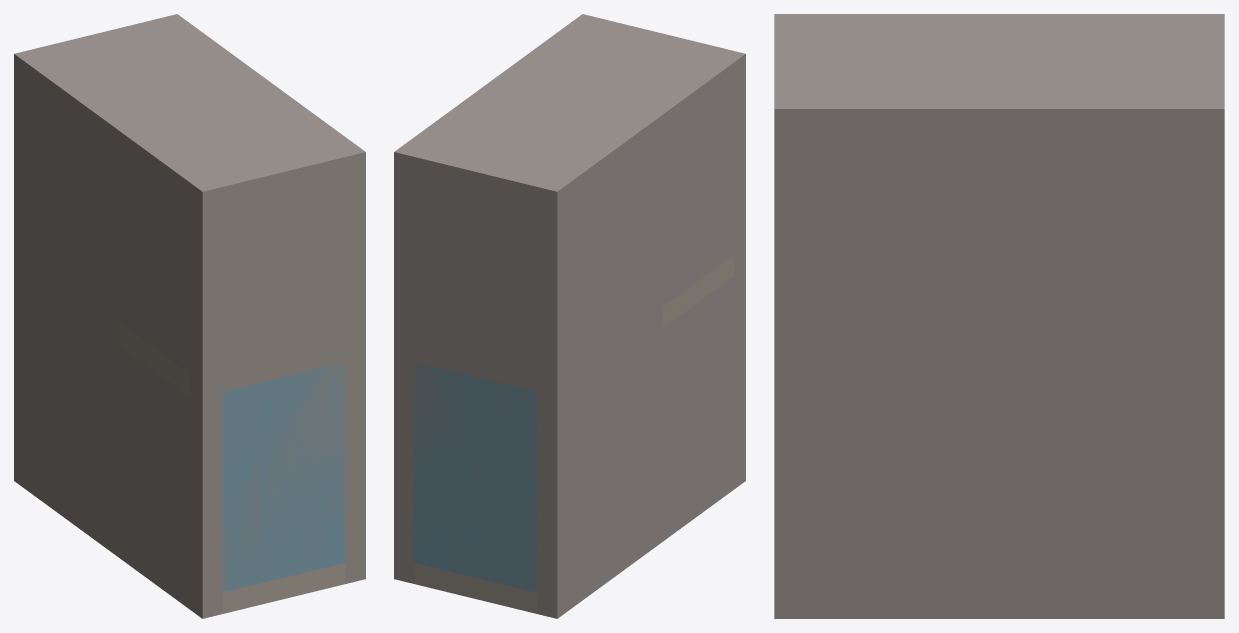
The model's file is rill.glb.
3 views of the same model, side by side, from view 1: azimuth 30°, elevation 25°; view 2: azimuth 150°, elevation 25°; view 3: azimuth 270°, elevation 25° (orthographic). The views are drawn at different scales.
Visible parts, largest first — view 1: rock_11, rock_1, water_1, plug_rill_south, rock_5, plug_rill_south.001, rock_4, plug_west, rock_3, rock_7, rock_2, rock_6 (+4 smaller); view 2: rock_11, rock_1, water_1, rock_5, plug_rill_north, rock_4, plug_rill_north.001, plug_west, rock_2, rock_6, rock_10, rock_3 (+4 smaller); view 3: rock_2, rock_6, rock_11.
Part boxes in pixels (box(x1,y1,x2,y2)): rock_11: box(14, 14, 365, 212); rock_1: box(14, 246, 119, 557); water_1: box(223, 362, 345, 592); plug_rill_south: box(223, 200, 345, 378); rock_5: box(14, 75, 119, 323); plug_rill_south.001: box(223, 349, 345, 592); rock_4: box(120, 345, 190, 609); plug_west: box(120, 195, 190, 375); rock_3: box(191, 376, 222, 618); rock_7: box(191, 205, 222, 383); rock_2: box(345, 344, 365, 583); rock_6: box(345, 173, 365, 348); rock_11: box(394, 14, 745, 212); rock_1: box(537, 307, 663, 618); water_1: box(414, 362, 536, 592); rock_5: box(537, 136, 663, 383); plug_rill_north: box(414, 200, 536, 378); rock_4: box(663, 276, 733, 540); plug_rill_north.001: box(414, 349, 536, 592); plug_west: box(663, 127, 733, 305); rock_2: box(394, 344, 414, 583); rock_6: box(394, 173, 414, 348); rock_10: box(663, 84, 733, 177); rock_3: box(734, 246, 745, 489); rock_2: box(774, 338, 1224, 618); rock_6: box(774, 134, 1224, 338); rock_11: box(774, 14, 1224, 134).
Bounding box in the file's own units: 4 × 10 × 8.
